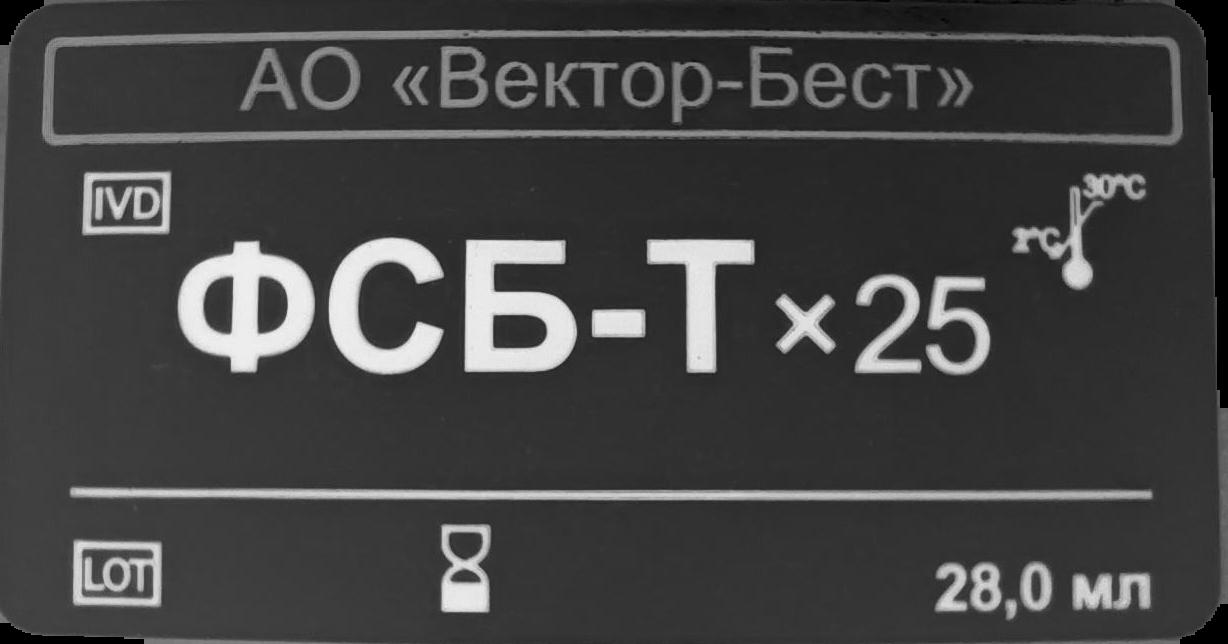something: (1012, 168, 1150, 296), (65, 539, 170, 611), (79, 163, 173, 241), (440, 520, 493, 619)
text: (166, 231, 1002, 380), (236, 43, 977, 135), (934, 559, 1154, 621)
